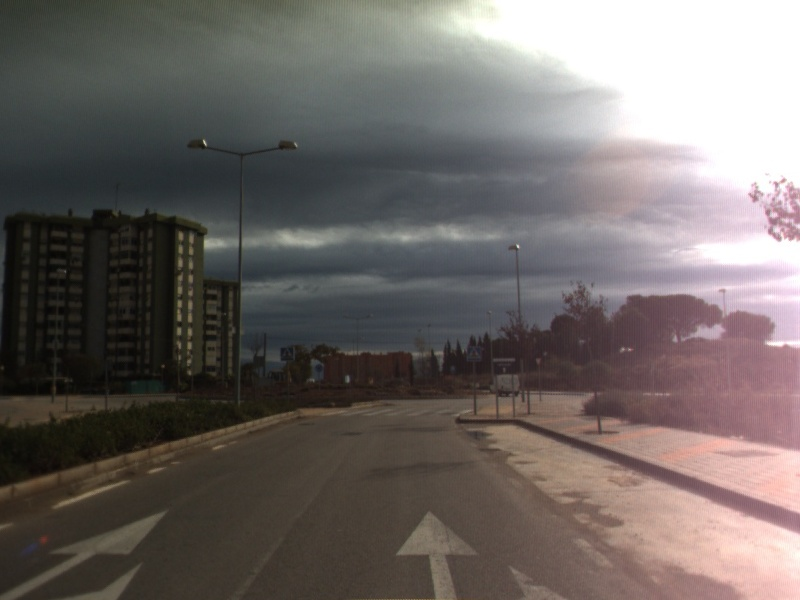STRAIGHT: (1, 505, 172, 600), (391, 506, 482, 600)
